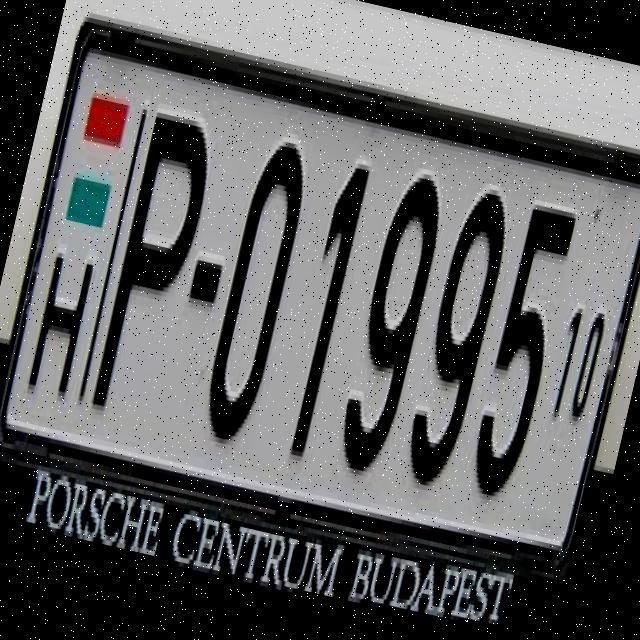Autre: (1, 26, 640, 557)
